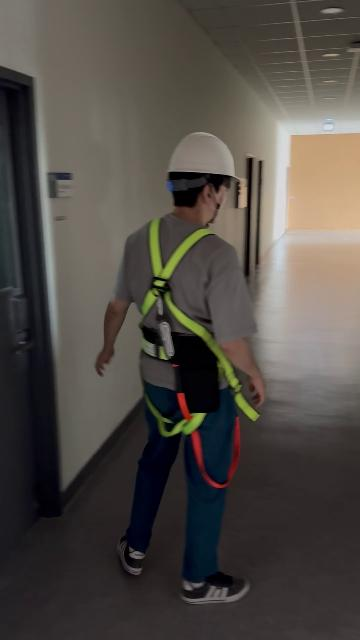helmet_worn: (166, 131, 242, 181)
shoe_not_worn: (180, 572, 248, 604), (117, 533, 144, 576)
vest_worn: (134, 218, 257, 476)
